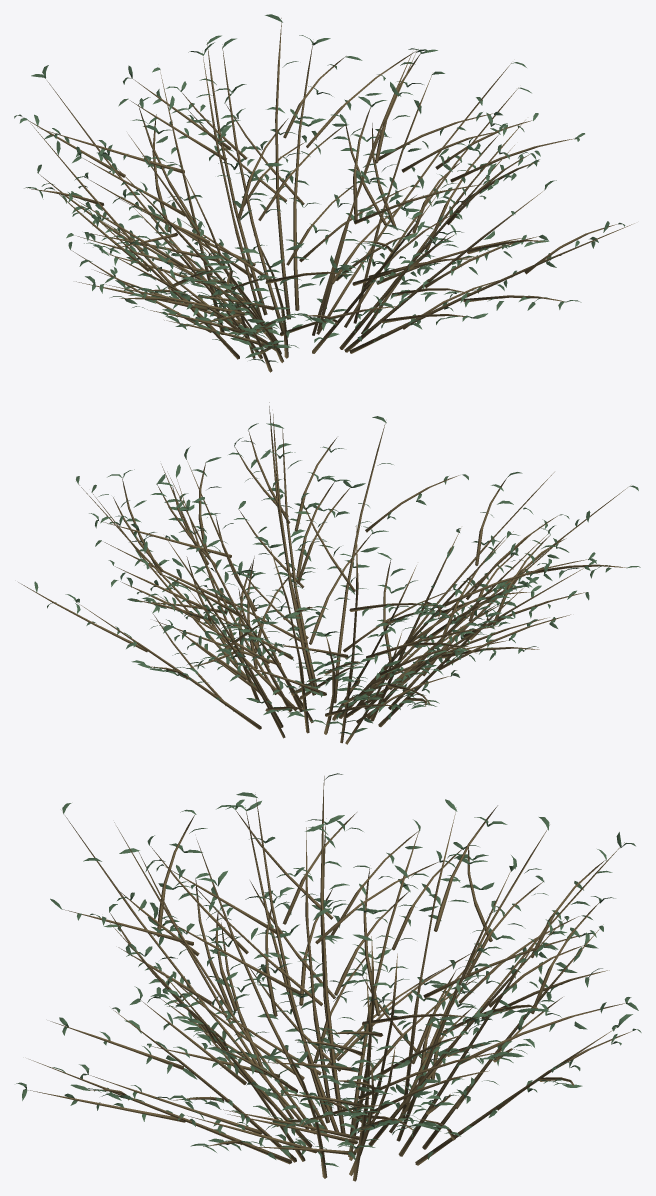
Rendered from Romarin_Etale_LOD1.fbx.
The picture shows the model from 3 angles, top to bottom: view 1: azimuth 30°, elevation 25°; view 2: azimuth 150°, elevation 25°; view 3: azimuth 270°, elevation 25°; orthographic projection. The views are drawn at different scales.
Parts seen in each view (by area): view 1: Romarin_Etale_LOD1; view 2: Romarin_Etale_LOD1; view 3: Romarin_Etale_LOD1.
Boxes of the visible parts, x1,y1,x2,y2 form: Romarin_Etale_LOD1: [14, 14, 634, 372]; Romarin_Etale_LOD1: [18, 402, 640, 744]; Romarin_Etale_LOD1: [16, 773, 641, 1181].
Size of the model in its own units: 107 by 51.28 by 98.86.
